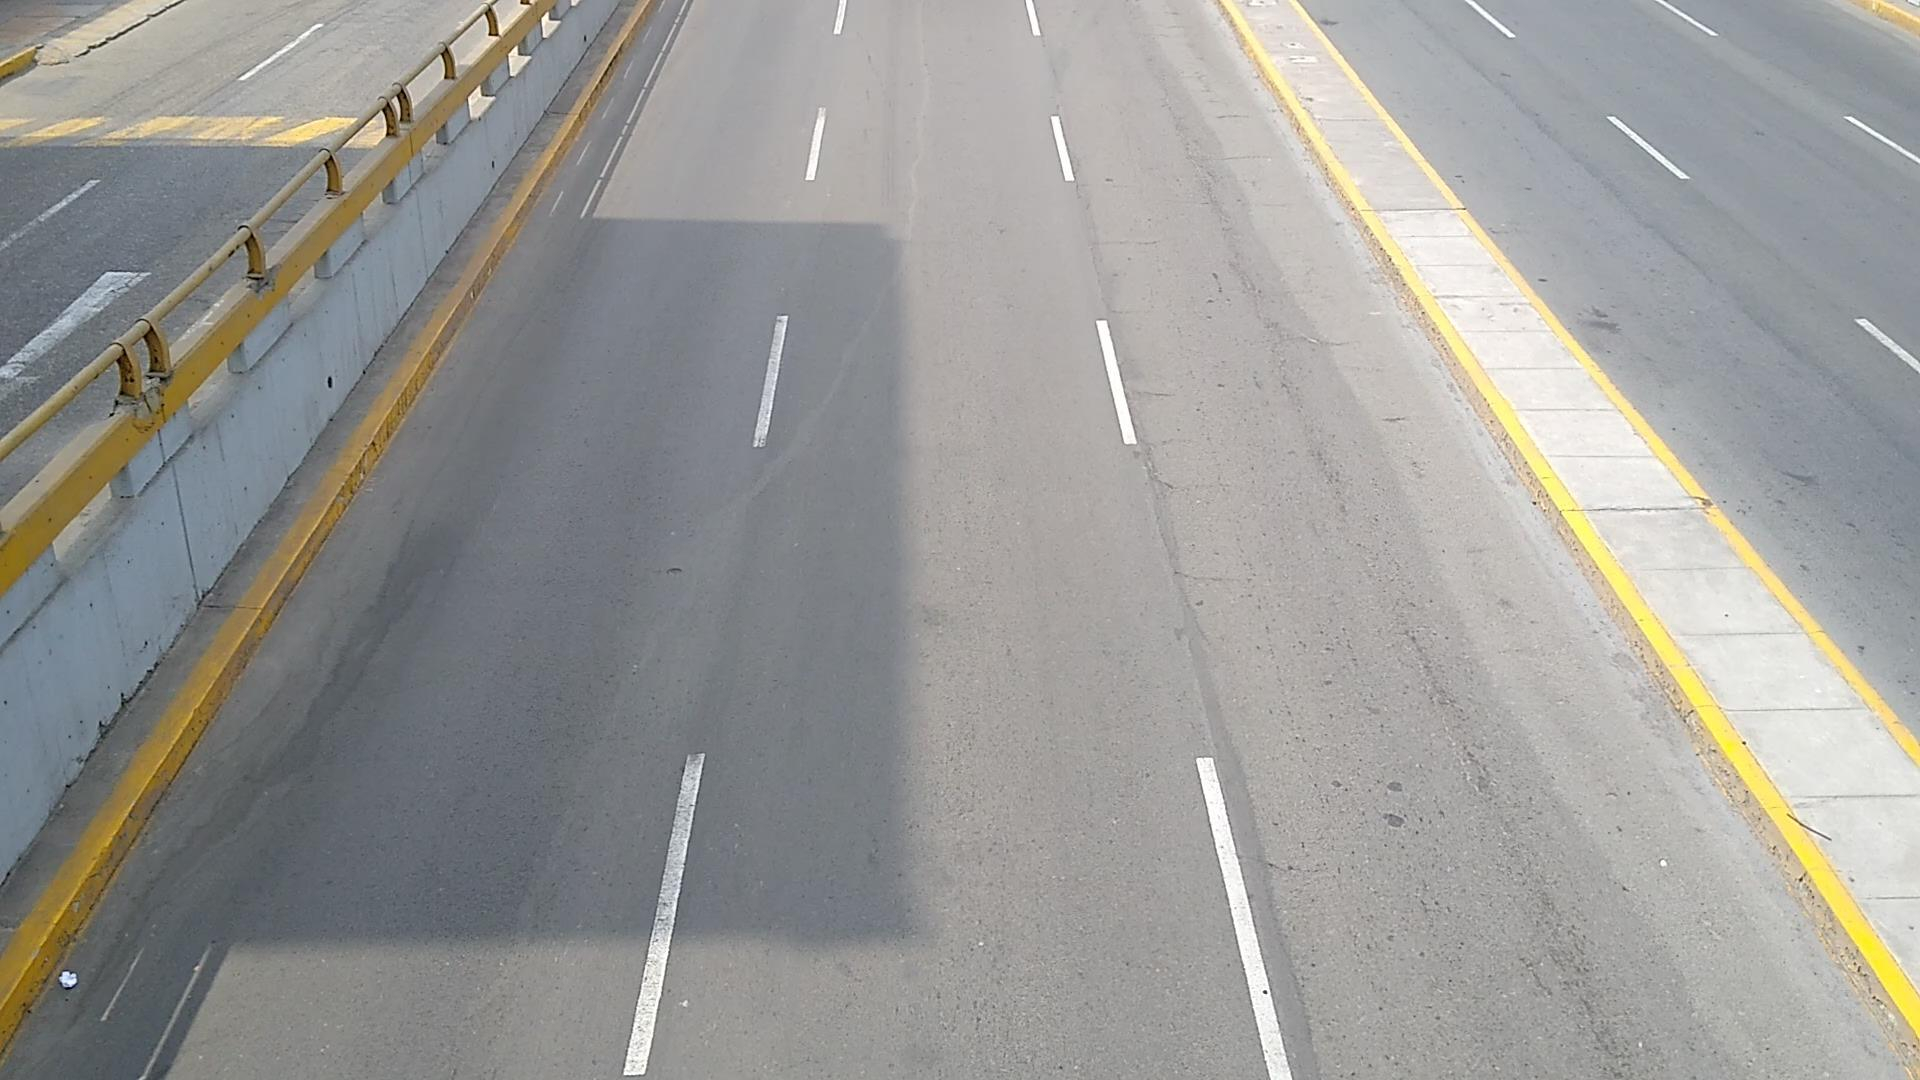car: (0, 0, 476, 430)
